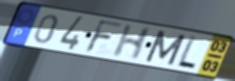0: (32, 13, 62, 44)
4: (57, 15, 86, 53)
F: (83, 19, 126, 55)
H: (110, 24, 154, 62)
L: (175, 34, 199, 71)
M: (142, 29, 188, 68)
